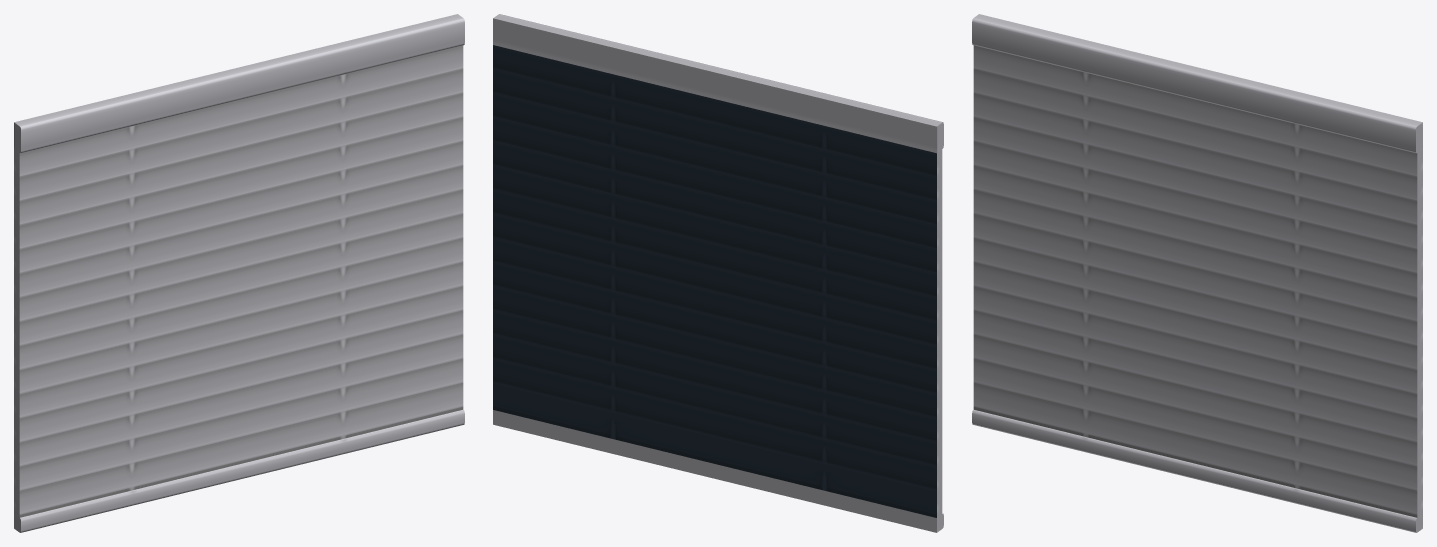
The model's file is PropBlinds01TypeB_1.FBX.
3 renders of one model, left to right at view 1: azimuth 30°, elevation 25°; view 2: azimuth 150°, elevation 25°; view 3: azimuth 330°, elevation 25°, orthographic.
Visible parts, largest first — view 1: PropBlinds01TypeB_1; view 2: PropBlinds01TypeB_1; view 3: PropBlinds01TypeB_1.
Part boxes in pixels (x1=…): PropBlinds01TypeB_1: x1=14, y1=14, x2=464, y2=532; PropBlinds01TypeB_1: x1=493, y1=14, x2=943, y2=532; PropBlinds01TypeB_1: x1=972, y1=14, x2=1422, y2=532.
Size of what is drawn, in the model's own units: 2 by 1.75 by 0.055.
